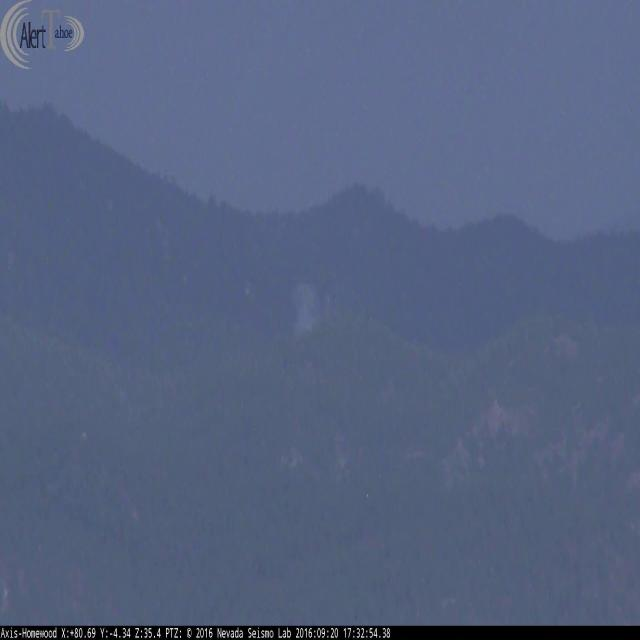smoke: (286, 274, 334, 342)
